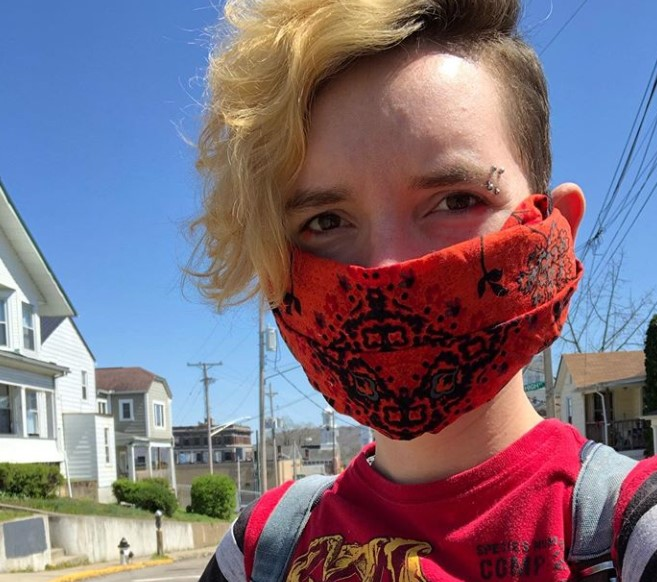face_with_mask: (251, 43, 568, 438)
